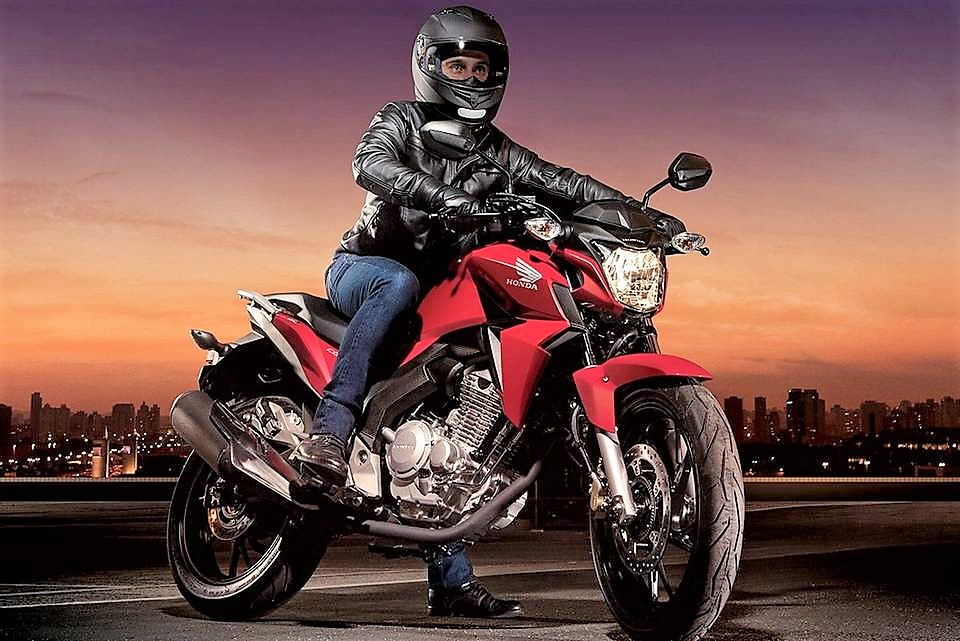helmet: (411, 7, 513, 114)
